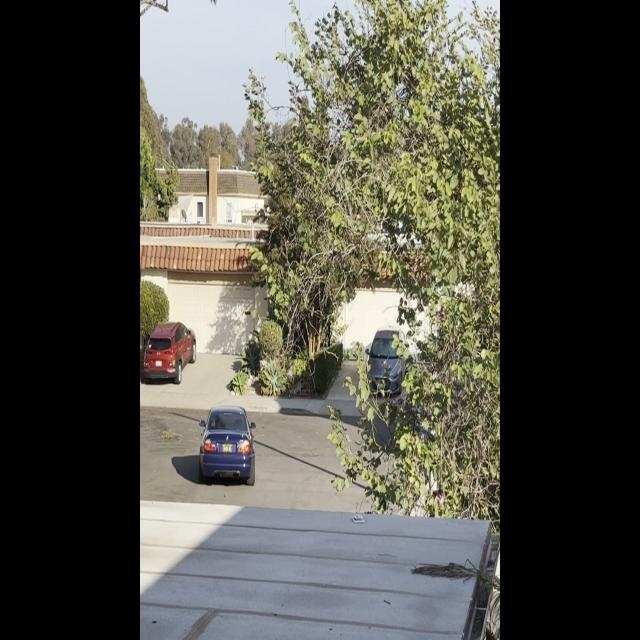Carbeetle: (194, 398, 259, 487)
Civilian: (140, 318, 199, 383), (363, 320, 409, 403)
